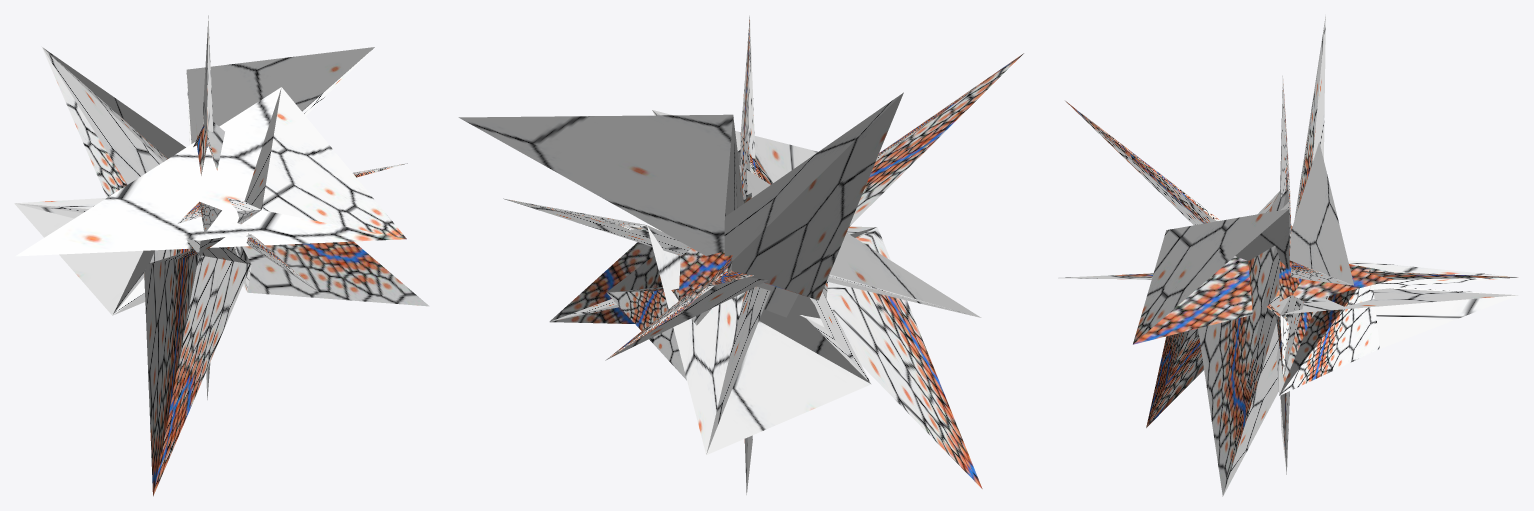
File: warp.glb
3 renders of one model, left to right at view 1: azimuth 30°, elevation 25°; view 2: azimuth 150°, elevation 25°; view 3: azimuth 270°, elevation 25°, orthographic. The views are drawn at different scales.
Visible parts, largest first — view 1: Sphere; view 2: Sphere; view 3: Sphere.
Part boxes in pixels (x1=…): Sphere: x1=14, y1=15, x2=429, y2=496; Sphere: x1=458, y1=15, x2=1023, y2=494; Sphere: x1=1058, y1=15, x2=1518, y2=496.
Size of the model in its own units: 71.76 by 70.68 by 72.03.
Materials: 1 (1 with a texture image).
